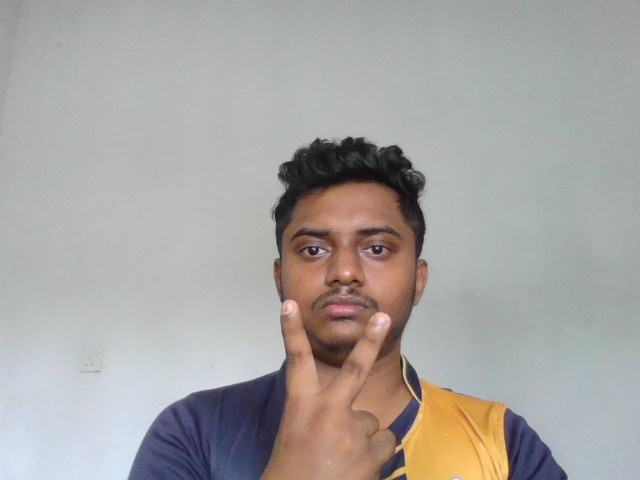See You: (253, 298, 399, 480)
